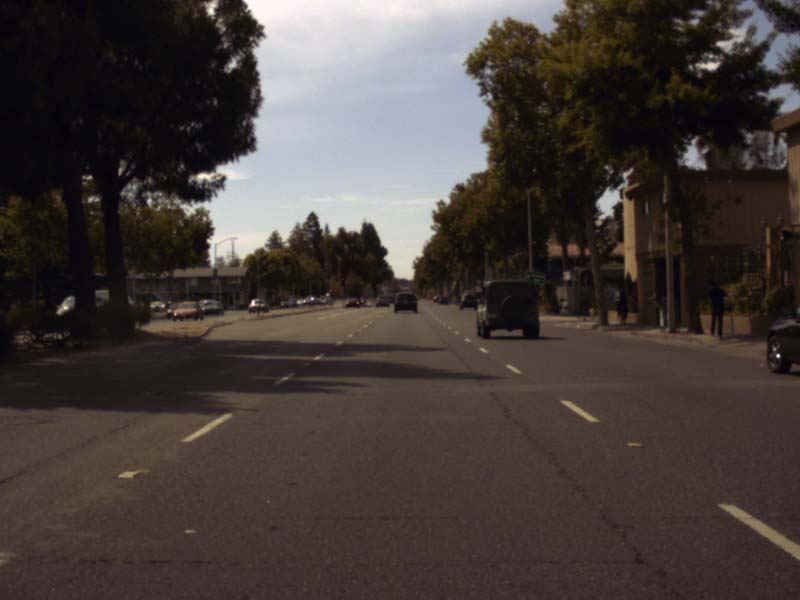Red: (328, 288, 333, 297)
Yellow: (339, 276, 344, 287)
